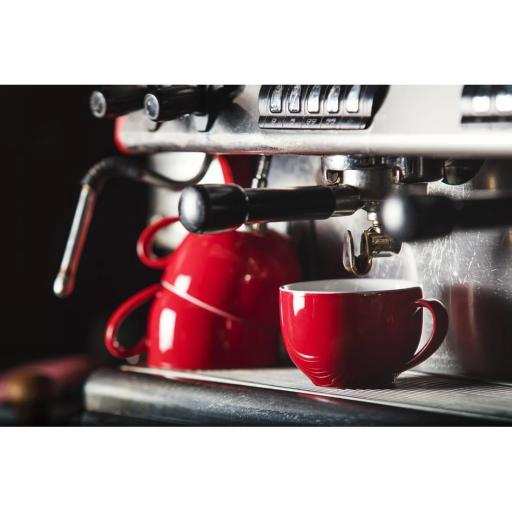phone: (278, 278, 450, 390), (137, 216, 301, 330), (104, 285, 281, 369)
